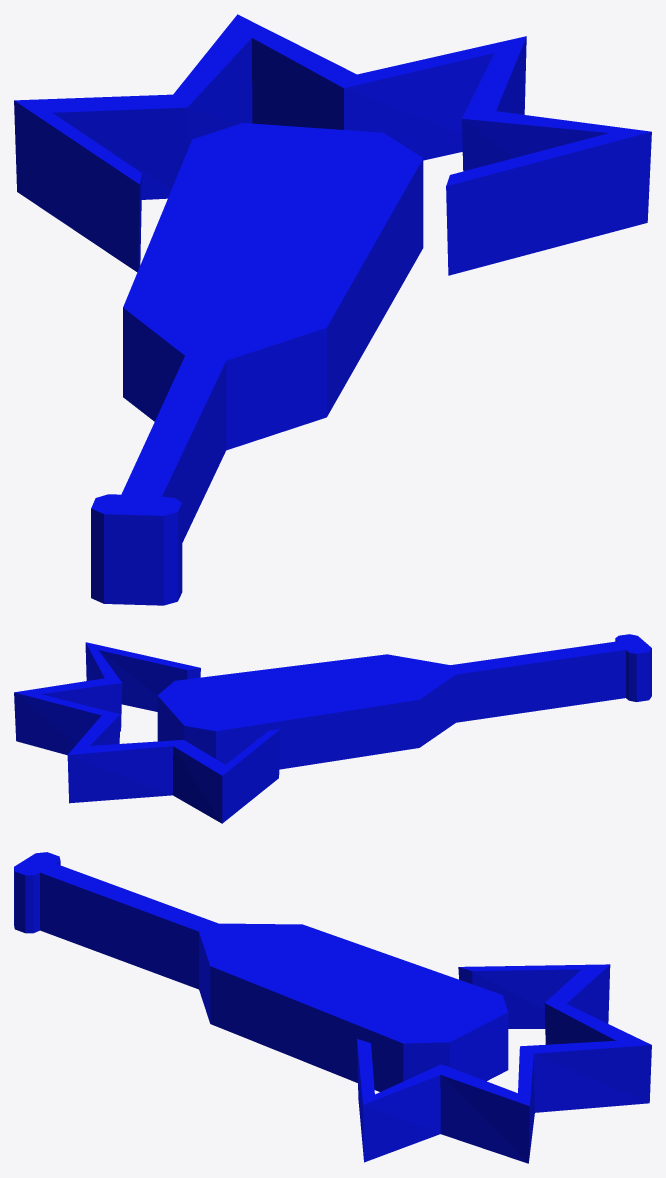
File: StrengthPickupPlumbob.FBX
3 views of the same model, one above another, from view 1: azimuth 30°, elevation 25°; view 2: azimuth 150°, elevation 25°; view 3: azimuth 270°, elevation 25° (orthographic). The views are drawn at different scales.
Parts seen in each view (by area): view 1: Line001, Line002; view 2: Line001, Line002; view 3: Line001, Line002.
Boxes of the visible parts, x1,y1,x2,y2 form: Line001: (91,123,423,605); Line002: (14,14,651,275); Line001: (157,634,651,769); Line002: (14,642,280,823); Line001: (14,852,508,1091); Line002: (357,964,651,1163).
Size of the model in its own units: 7.87 by 0.8442 by 8.32.
